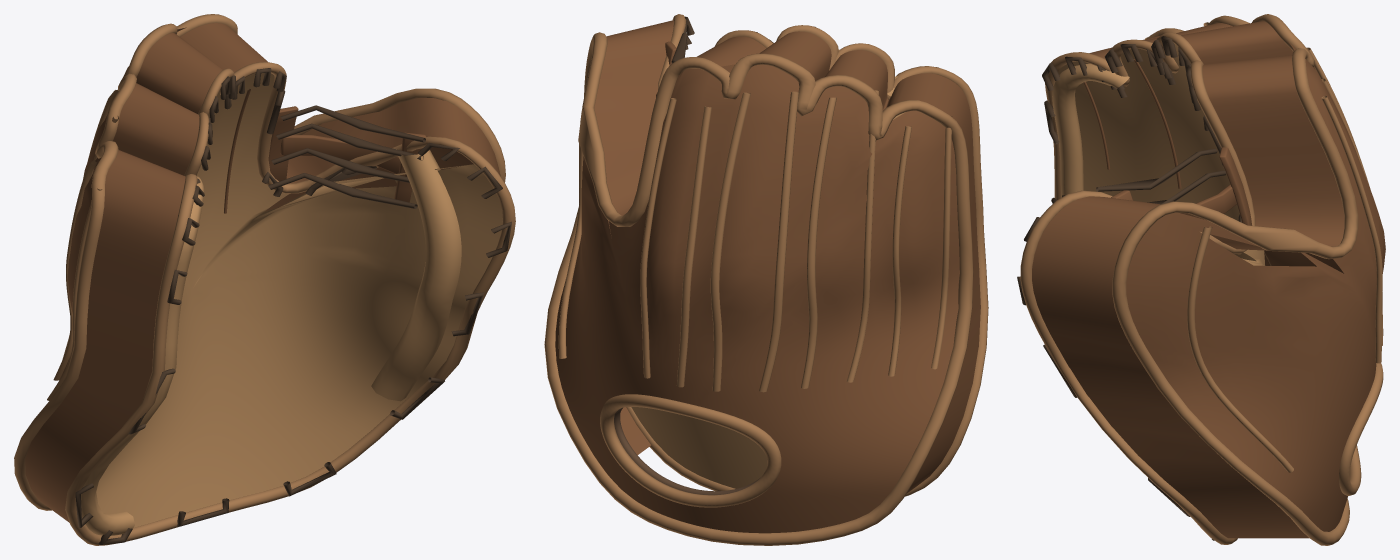
The model's file is field-glove.glb.
The picture shows the model from 3 angles, left to right: view 1: azimuth 30°, elevation 25°; view 2: azimuth 150°, elevation 25°; view 3: azimuth 270°, elevation 25°; orthographic projection. The views are drawn at different scales.
Parts seen in each view (by area): view 1: field glove; view 2: field glove; view 3: field glove.
Part boxes in pixels (x1=…): field glove: x1=14, y1=14, x2=515, y2=545; field glove: x1=544, y1=14, x2=988, y2=545; field glove: x1=1017, y1=14, x2=1385, y2=545.
Size of the model in its own units: 0.2775 by 0.3002 by 0.2096.
